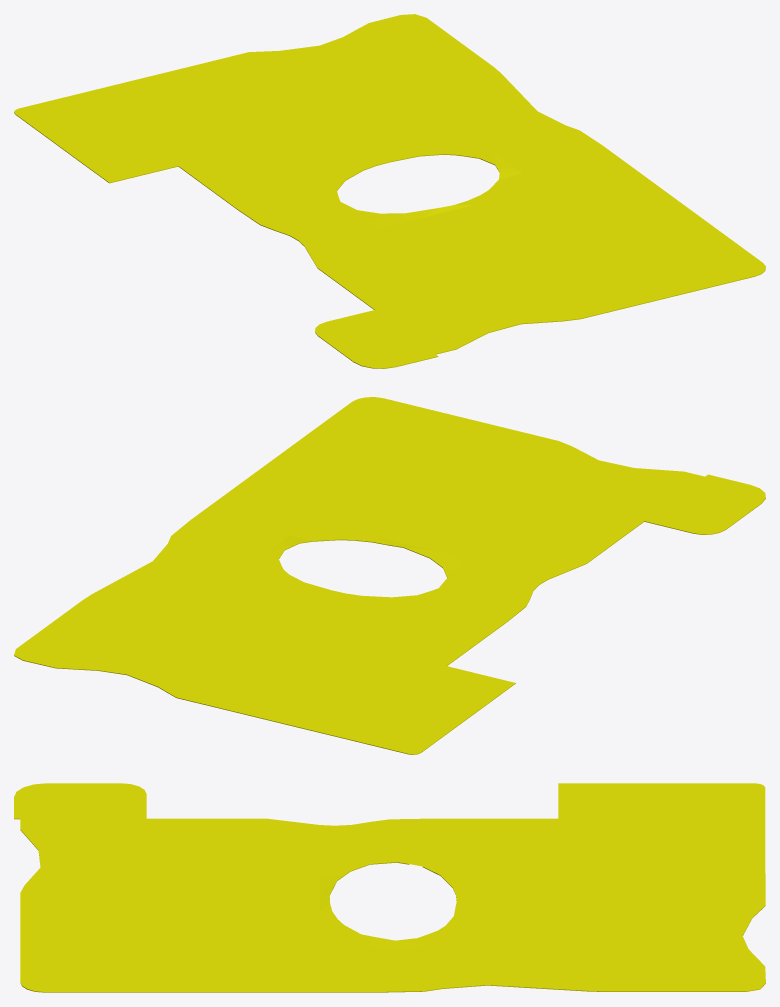
Rendered from sm_hana_building_5f_ceiling.glb.
The picture shows the model from 3 angles, top to bottom: view 1: azimuth 30°, elevation 25°; view 2: azimuth 150°, elevation 25°; view 3: azimuth 270°, elevation 25°; orthographic projection. The views are drawn at different scales.
Parts seen in each view (by area): view 1: sm_hana_building_5f_ceiling; view 2: sm_hana_building_5f_ceiling; view 3: sm_hana_building_5f_ceiling.
Part boxes in pixels (bbox=[...]): sm_hana_building_5f_ceiling: bbox=[14, 14, 765, 368]; sm_hana_building_5f_ceiling: bbox=[14, 397, 765, 754]; sm_hana_building_5f_ceiling: bbox=[14, 783, 765, 992].
Size of the model in its own units: 64.63 by 0.2524 by 98.44.
1 material, 1 textured.
